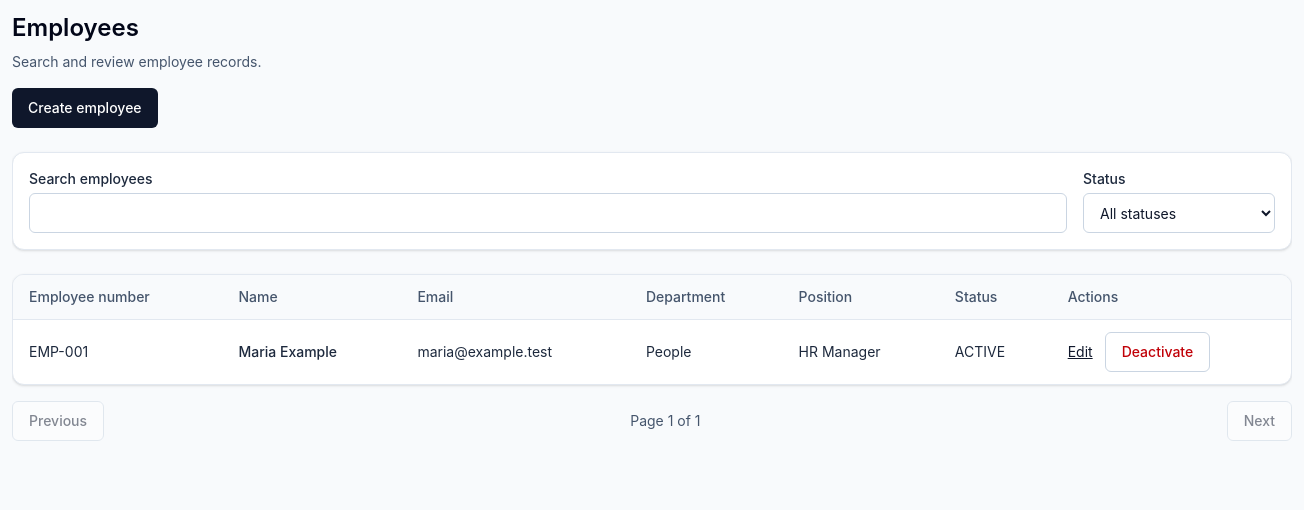
EmployeeManagementPage › shows deactivation failures and allows retry
The width and height of the screenshot is (1304, 510).
Check: the row "EMP-001 Maria Example" is shown, box left=13, top=320, right=1291, bottom=384
Click the button with aria-label "Deactivate Maria Example".
click(1157, 352)  # box left=1105, top=332, right=1210, bottom=372
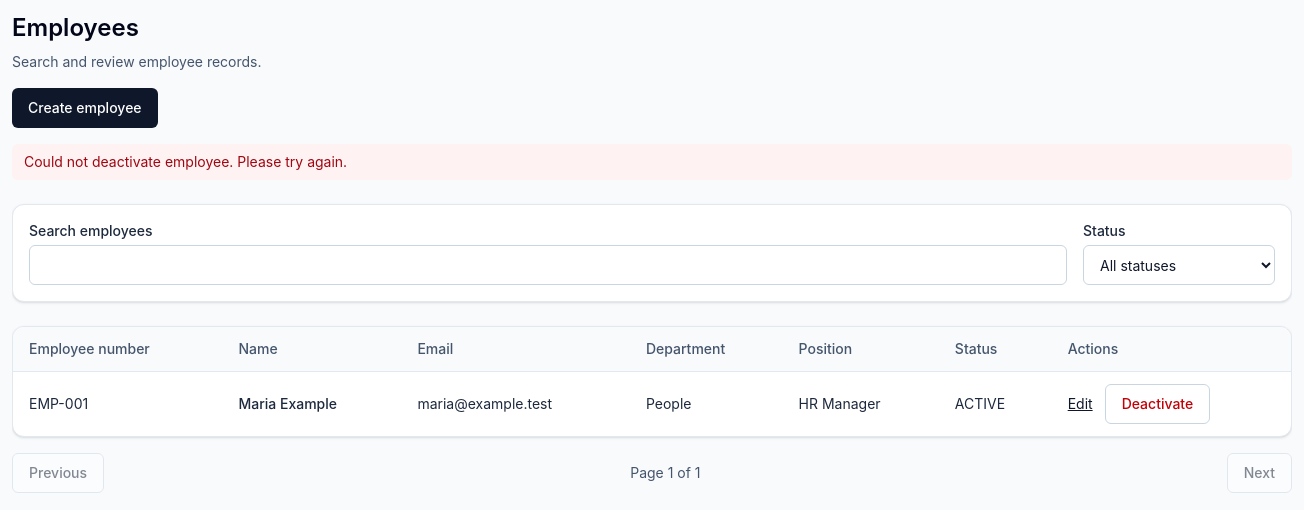
Check: the message shows "Could not deactivate", box left=24, top=153, right=347, bottom=170
Click the button with aria-label "Deactivate Maria Example".
click(1157, 404)  # box left=1105, top=384, right=1210, bottom=424
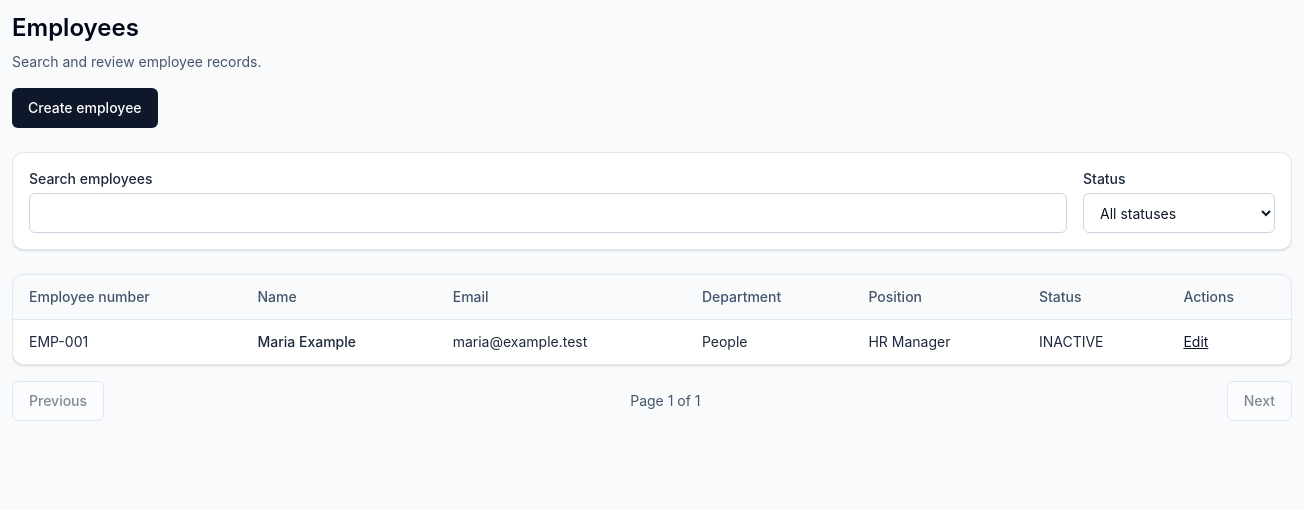
Check: the text "INACTIVE" is shown, box left=1023, top=320, right=1168, bottom=364
